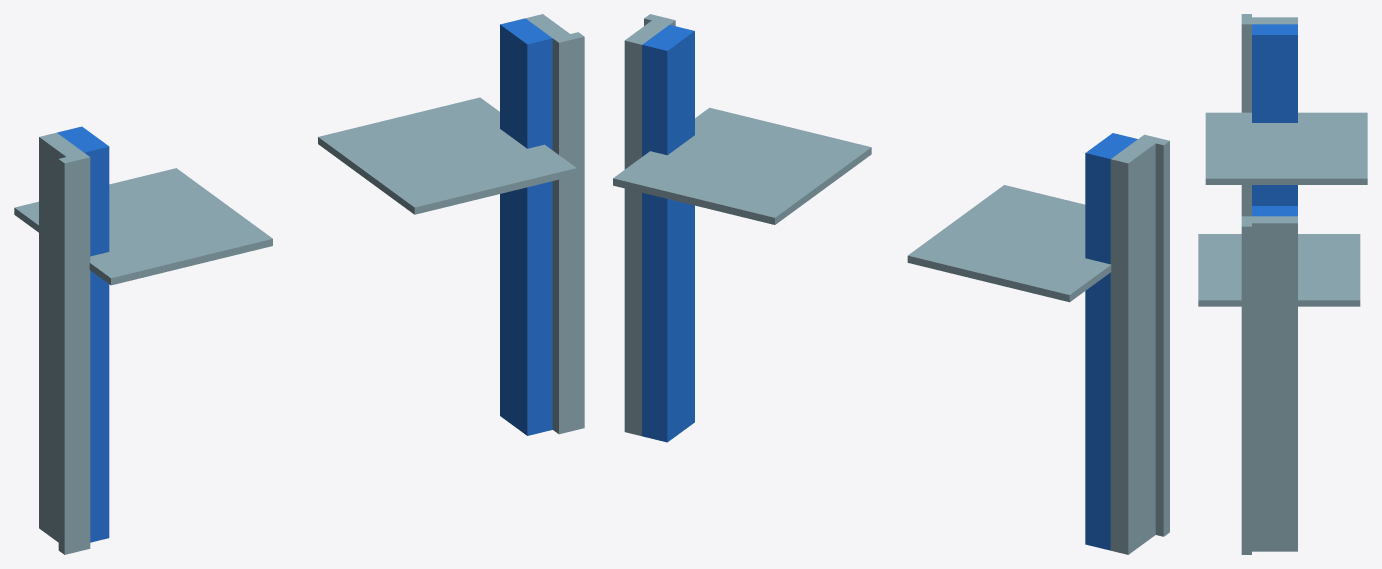
File: lift.fbx
3 renders of one model, left to right at view 1: azimuth 30°, elevation 25°; view 2: azimuth 150°, elevation 25°; view 3: azimuth 270°, elevation 25°, orthographic. The views are drawn at different scales.
Parts seen in each view (by area): view 1: direkR, direkL, Cube.003, Cube.001; view 2: direkL, direkR, Cube.003, Cube.001; view 3: direkR, Cube.001, Cube.003, direkL.
Part boxes in pixels (x1,y1,x2,y2): direkR: [500, 14, 584, 435]; direkL: [39, 126, 109, 554]; Cube.003: [318, 97, 576, 214]; Cube.001: [14, 168, 272, 285]; direkL: [1085, 133, 1169, 554]; direkR: [624, 14, 694, 442]; Cube.003: [613, 107, 871, 224]; Cube.001: [907, 185, 1111, 302]; direkR: [1241, 206, 1297, 554]; Cube.001: [1205, 112, 1367, 184]; Cube.003: [1198, 234, 1360, 306]; direkL: [1241, 14, 1297, 216].
Size of the model in its own units: 286 by 206 by 96.22.
